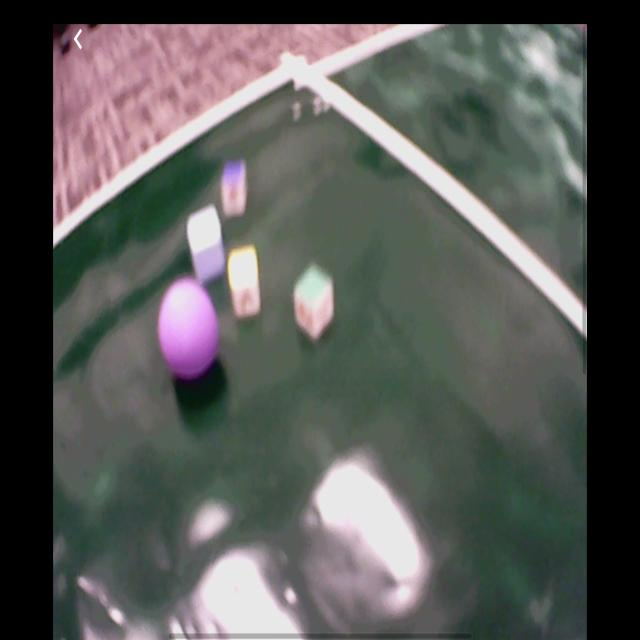ball: (158, 278, 220, 380)
